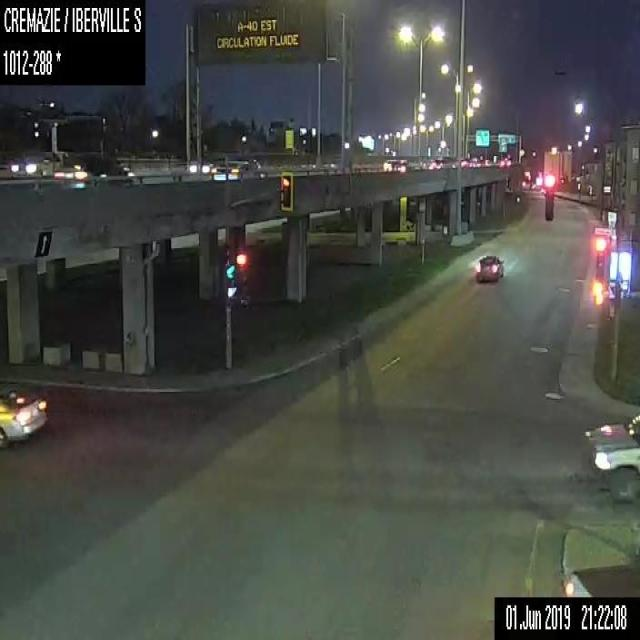vehicle: (584, 412, 639, 503), (52, 152, 136, 188), (0, 385, 48, 447), (10, 150, 64, 177), (212, 156, 268, 180), (188, 152, 238, 173), (475, 253, 503, 283), (383, 157, 406, 171), (299, 157, 317, 168), (425, 158, 442, 169), (323, 158, 338, 166), (470, 156, 478, 166), (461, 157, 469, 166), (481, 157, 490, 165)
